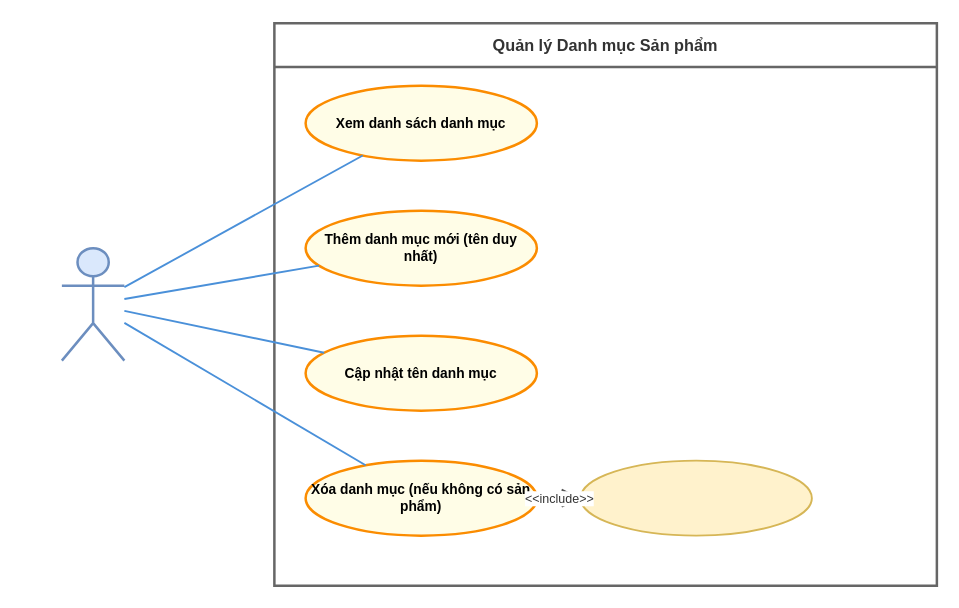
This 959x608 diagram has some shape labels left out. The centre of each missing label's shape, as x and y in pixels:
Kiểm tra ràng buộc FK tới products (RESTRICT): point (695, 497)
Quản trị viên (ADMIN): point (92, 303)
